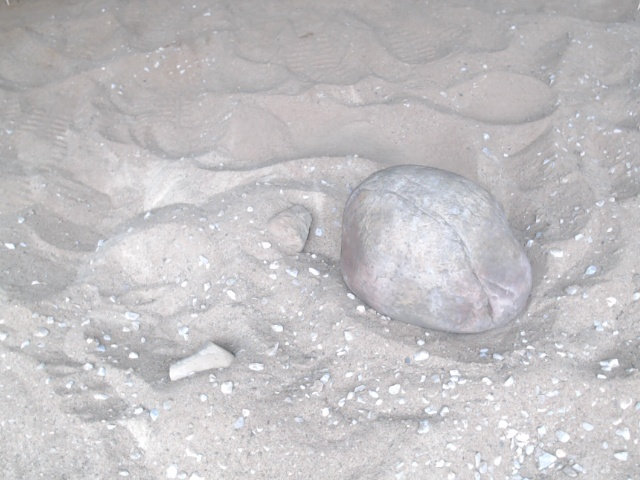rock: (335, 159, 537, 340), (163, 337, 239, 386), (260, 199, 317, 261)
